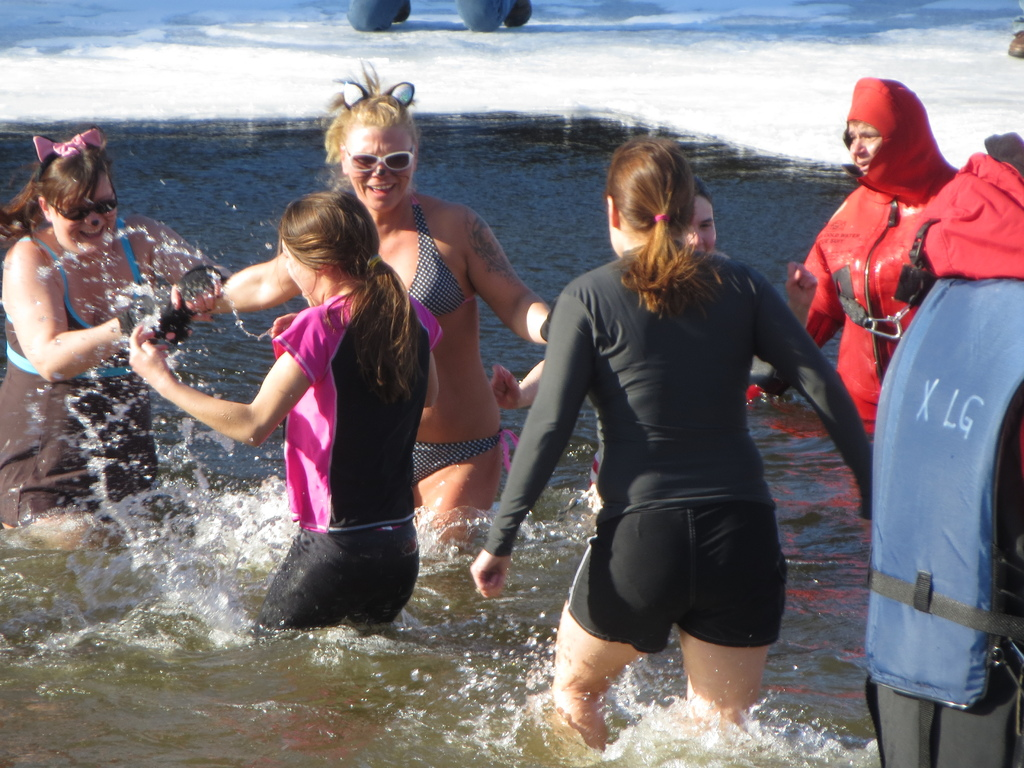Person: (342, 0, 531, 32), (1005, 0, 1024, 58)
